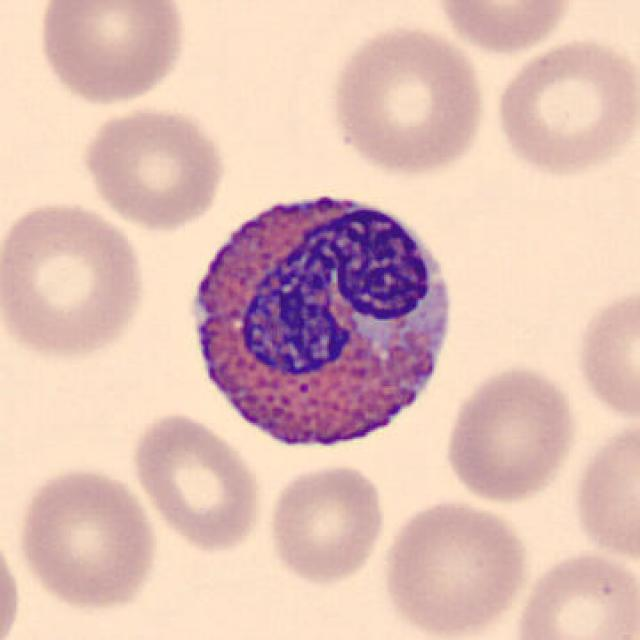Eosinophil: (176, 171, 468, 464)
RBC: (325, 21, 491, 178), (0, 195, 149, 365), (12, 462, 160, 615), (377, 496, 531, 638), (491, 35, 638, 180), (128, 408, 267, 556), (441, 361, 581, 506), (78, 102, 230, 231), (32, 0, 190, 108), (263, 460, 389, 587), (508, 546, 638, 640), (569, 414, 638, 568), (571, 280, 638, 427), (430, 0, 577, 56), (0, 523, 25, 640)
